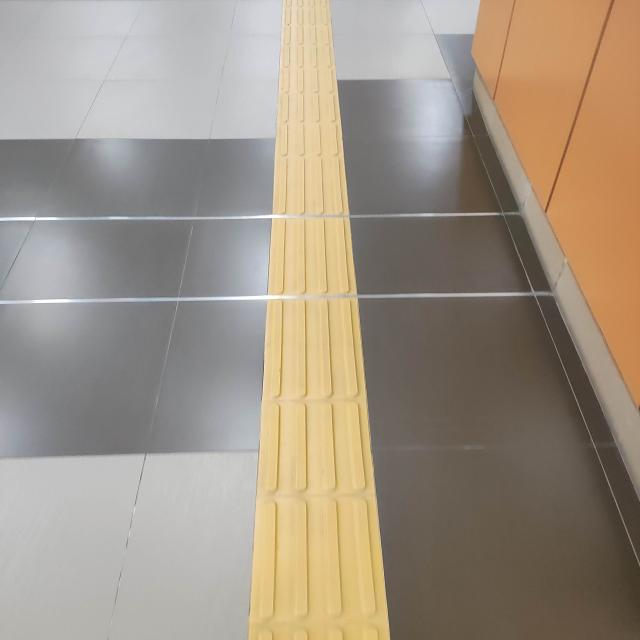lurus: (227, 30, 382, 640)
